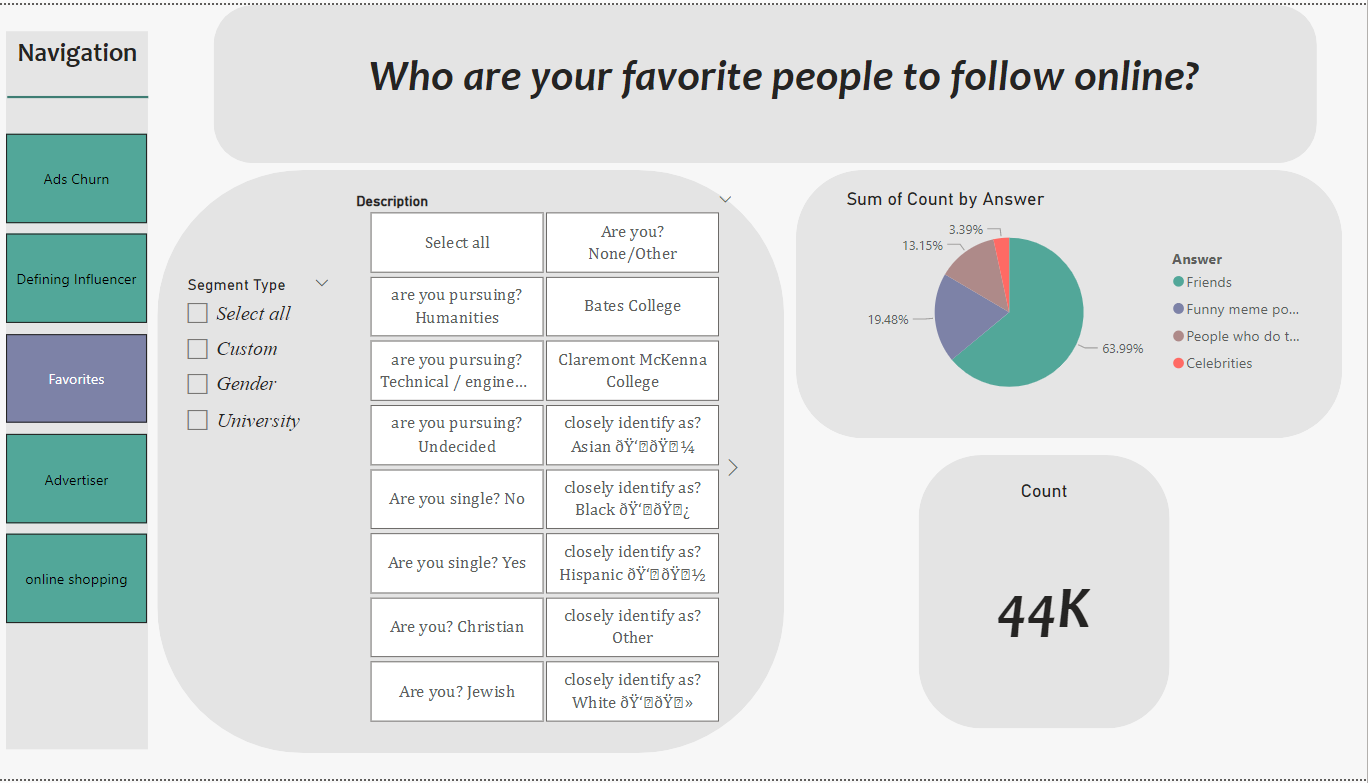

The page's visual inventory and layout, read from the dashboard file:
{"tool":"powerbi","page":{"name":"Favorites","canvas":[1280,720],"ordinal":2},"visuals":[{"type":"shape","box":[13.7,24.7,131.7,668.3],"z":0},{"type":"shape","box":[207.2,0,1026.4,146.8],"z":1000},{"type":"shape","box":[155.1,153.7,583.2,542],"z":2000},{"type":"shape","box":[862.8,418.6,233.7,254.7],"z":3000},{"type":"shape","box":[749.2,153.7,507.7,249.7],"z":4000},{"type":"card","fields":{"Values":["Min(favorite_people.Question)"]},"box":[241.5,0,992.1,126.2],"z":5000},{"type":"card","title":"Count","fields":{"Values":["Sum(favorite_people.Count)"]},"box":[880.2,441.9,198.8,208.1],"z":6000},{"type":"slicer","fields":{"Values":["favorite_people.Segment Description"]},"box":[326.6,170.2,374.6,503.6],"z":7000},{"type":"pieChart","fields":{"Y":["Sum(favorite_people.Count)"],"Category":["favorite_people.Answer"]},"box":[790.7,169.8,443,212.8],"z":8000},{"type":"slicer","fields":{"Values":["favorite_people.Segment Type"]},"box":[169.8,246.5,157,229.1],"z":9000},{"type":"textbox","box":[0,24.4,160.5,58.1],"z":11000},{"type":"shape","box":[15.1,74.4,131.4,22.1],"z":12000},{"type":"pageNavigator","box":[14,119.8,131.4,458.1],"z":12001}]}

Visuals, with their boxes in screenshot pixels (x1, y1, x2, y2), scaled from the page's 1280x720 canvas onto the 1369x783 screenshot:
shape: l=15, t=27, r=156, b=754
shape: l=222, t=0, r=1319, b=160
shape: l=166, t=167, r=790, b=757
shape: l=923, t=455, r=1173, b=732
shape: l=801, t=167, r=1344, b=439
card - Min(favorite_people.Question): l=258, t=0, r=1319, b=137
"Count" card: l=941, t=481, r=1154, b=707
slicer - favorite_people.Segment Description: l=349, t=185, r=750, b=733
pieChart - Sum(favorite_people.Count) x favorite_people.Answer: l=846, t=185, r=1319, b=416
slicer - favorite_people.Segment Type: l=182, t=268, r=350, b=517
textbox: l=0, t=27, r=172, b=90
shape: l=16, t=81, r=157, b=105
pageNavigator: l=15, t=130, r=156, b=628
